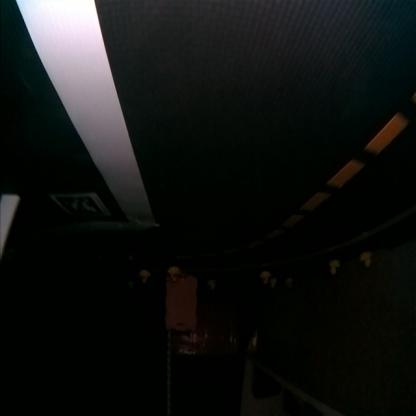Duckie: (169, 266, 181, 283), (361, 252, 372, 268), (260, 271, 272, 285), (330, 261, 340, 275), (141, 272, 151, 284), (286, 279, 294, 289), (209, 280, 216, 290)
QR code: (53, 194, 108, 216)
